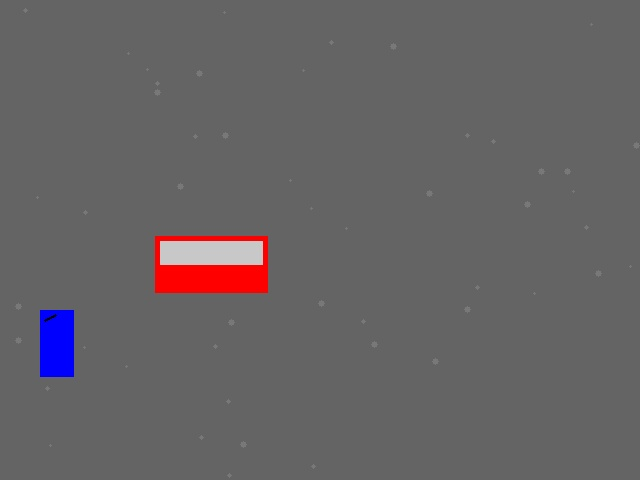car: (155, 236, 267, 292)
motorcycle: (40, 310, 73, 376)
